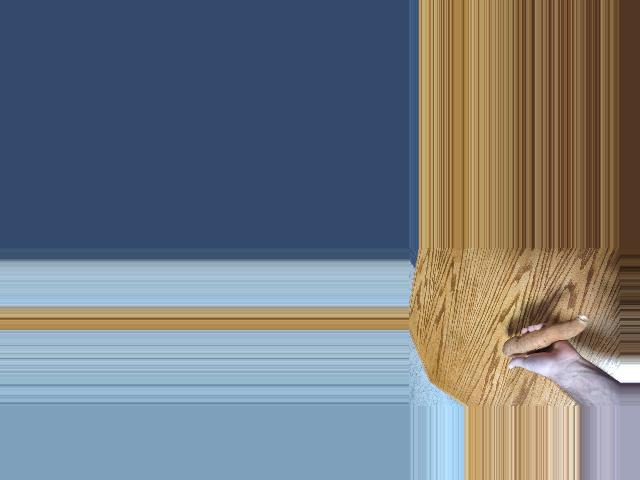sweet_potato: (502, 315, 590, 357)
